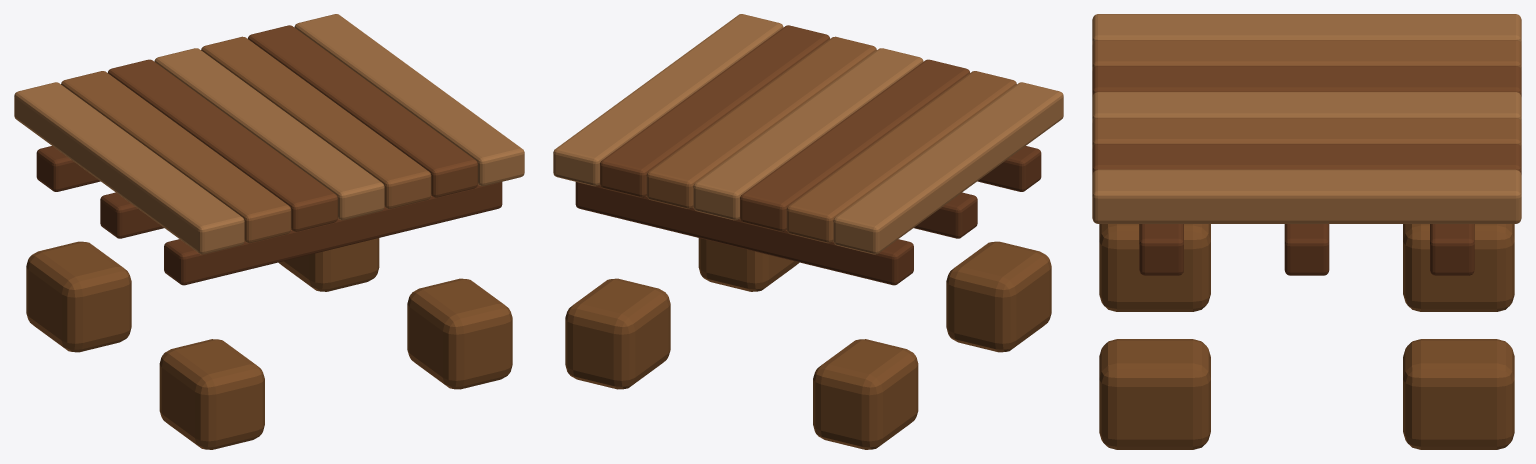
Rendered from SM_Raft.fbx.
The picture shows the model from 3 angles, left to right: view 1: azimuth 30°, elevation 25°; view 2: azimuth 150°, elevation 25°; view 3: azimuth 270°, elevation 25°; orthographic projection. The views are drawn at different scales.
Visible parts, largest first — view 1: SM_Raft; view 2: SM_Raft; view 3: SM_Raft.
Boxes of the visible parts, x1,y1,x2,y2 form: SM_Raft: (14,14,524,449); SM_Raft: (553,14,1063,449); SM_Raft: (1092,14,1521,449).
Size of what is drawn, in the model's own units: 1.92 by 1.31 by 1.92.
